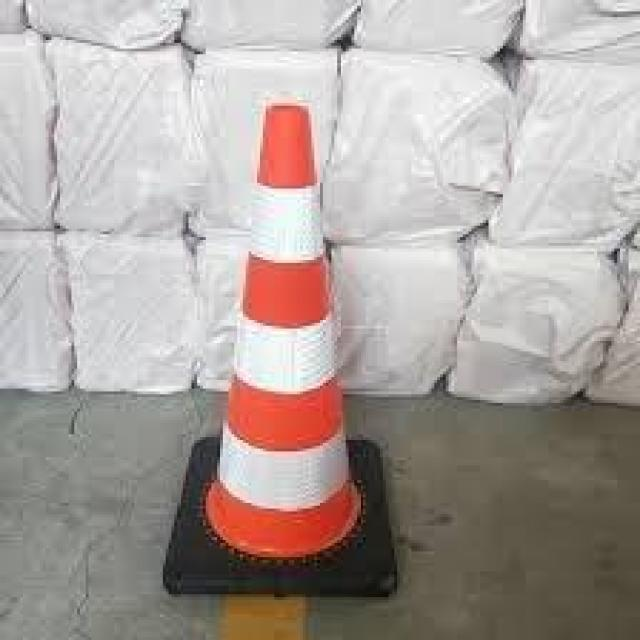Cone: (168, 102, 394, 596)
